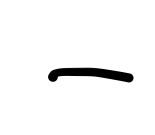minus: (48, 68, 133, 82)
